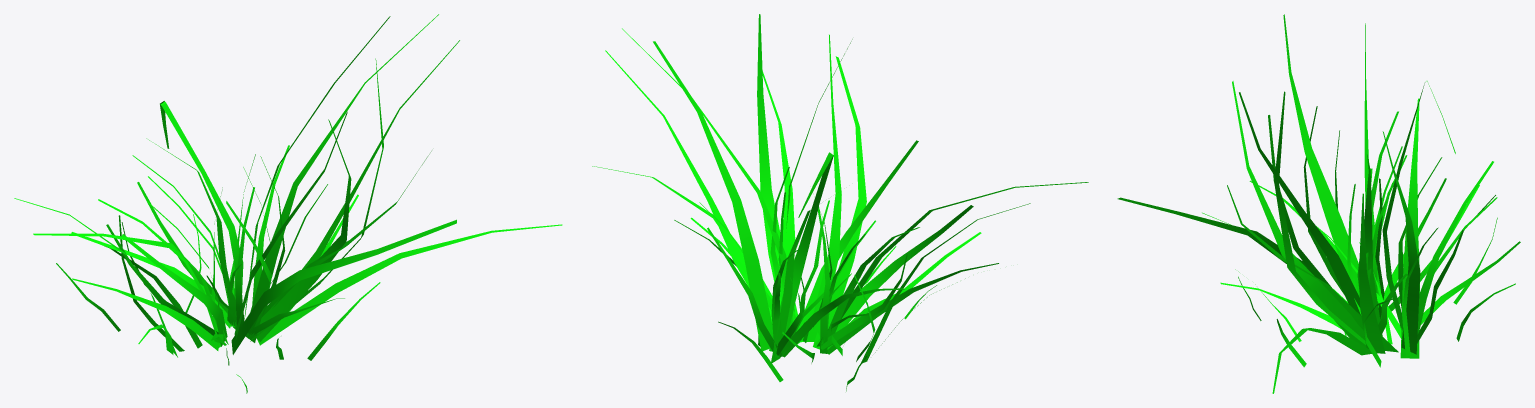
File: grass.obj
3 renders of one model, left to right at view 1: azimuth 30°, elevation 25°; view 2: azimuth 150°, elevation 25°; view 3: azimuth 270°, elevation 25°, orthographic. The views are drawn at different scales.
Parts seen in each view (by area): view 1: allGrass_001; view 2: allGrass_001; view 3: allGrass_001.
Part boxes in pixels (left/top/right/bottom): allGrass_001: left=14, top=14, right=562, bottom=393; allGrass_001: left=592, top=14, right=1088, bottom=391; allGrass_001: left=1117, top=14, right=1520, bottom=393.
Size of the model in its own units: 11.05 by 6.07 by 7.2.
